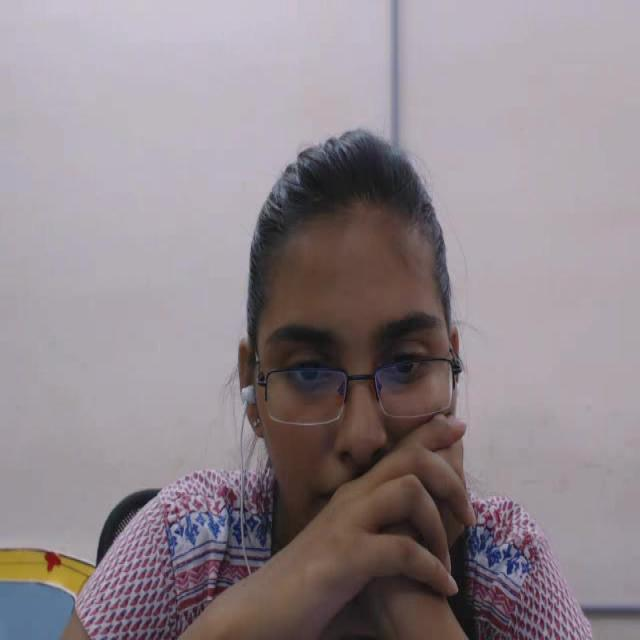Bored: (200, 119, 477, 603)
